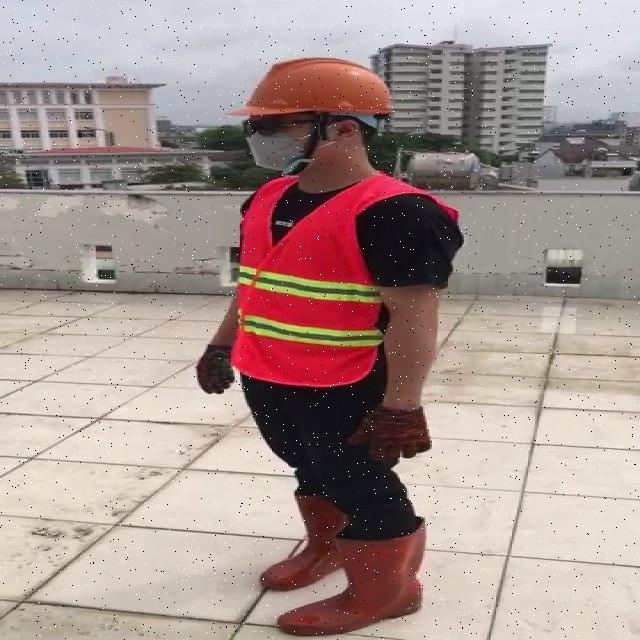Hard_hat: (231, 53, 396, 135)
Person: (193, 58, 481, 638)
Vest: (237, 173, 387, 390)
